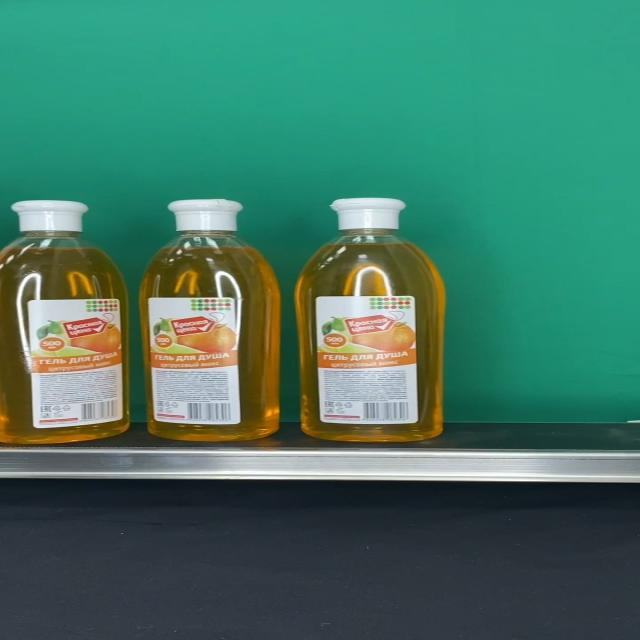Bottle: (295, 198, 447, 442), (138, 200, 280, 441), (0, 200, 128, 444)
Cap: (9, 200, 89, 232), (168, 200, 245, 232), (329, 198, 405, 230)
